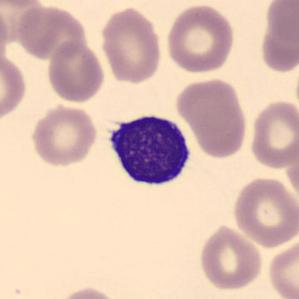Lymphocyte: (100, 106, 196, 194)
RBC: (173, 76, 248, 151), (98, 5, 165, 85), (163, 3, 237, 75), (231, 174, 297, 248), (197, 223, 265, 292), (28, 102, 99, 168), (14, 3, 91, 61), (45, 39, 106, 104), (247, 97, 298, 172), (256, 19, 299, 73), (0, 1, 49, 44), (0, 49, 28, 123), (266, 236, 298, 299), (262, 0, 298, 45), (54, 285, 123, 299), (0, 0, 50, 8)
